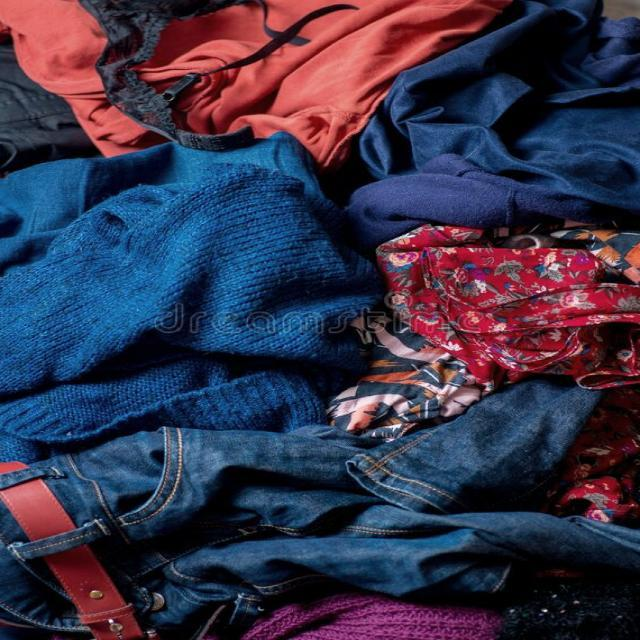clothes: (4, 18, 606, 637)
